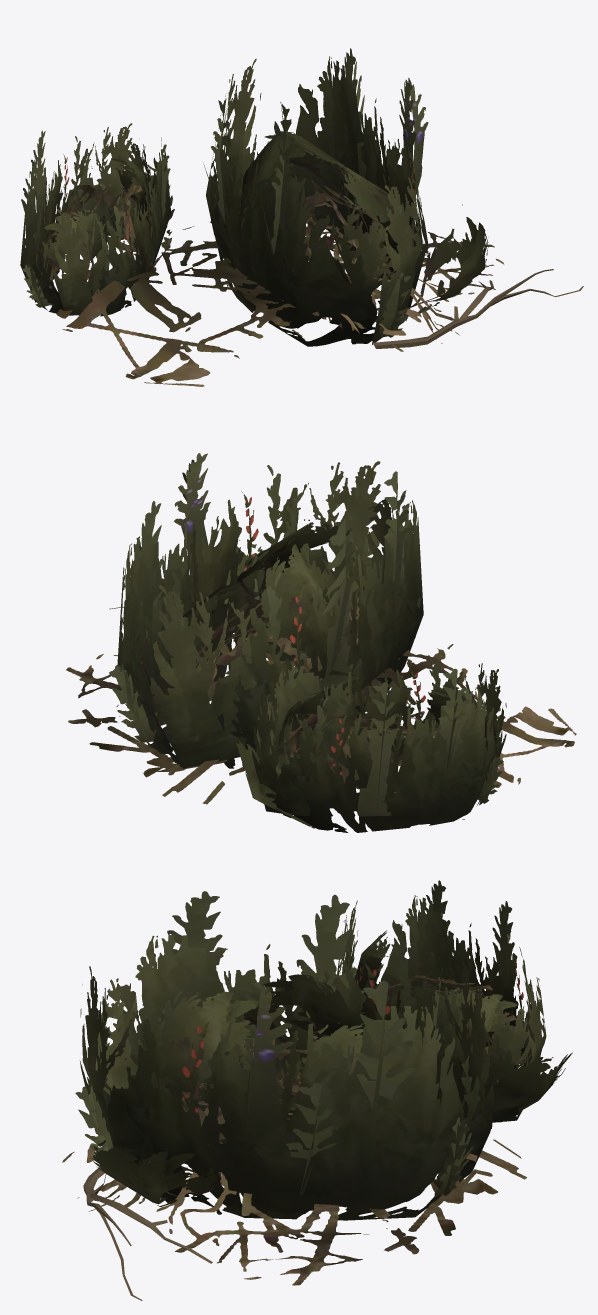
3 renders of one model, top to bottom at view 1: azimuth 30°, elevation 25°; view 2: azimuth 150°, elevation 25°; view 3: azimuth 270°, elevation 25°, orthographic. The views are drawn at different scales.
Visible parts, largest first — view 1: body0_model0_lod0_mesh0; view 2: body0_model0_lod0_mesh0; view 3: body0_model0_lod0_mesh0.
Boxes of the visible parts, x1,y1,x2,y2 form: body0_model0_lod0_mesh0: (20,48,583,386); body0_model0_lod0_mesh0: (66,453,576,832); body0_model0_lod0_mesh0: (62,880,572,1300).
Bounding box in the file's own units: 125 × 57.52 × 106.
1 material, 1 textured.
